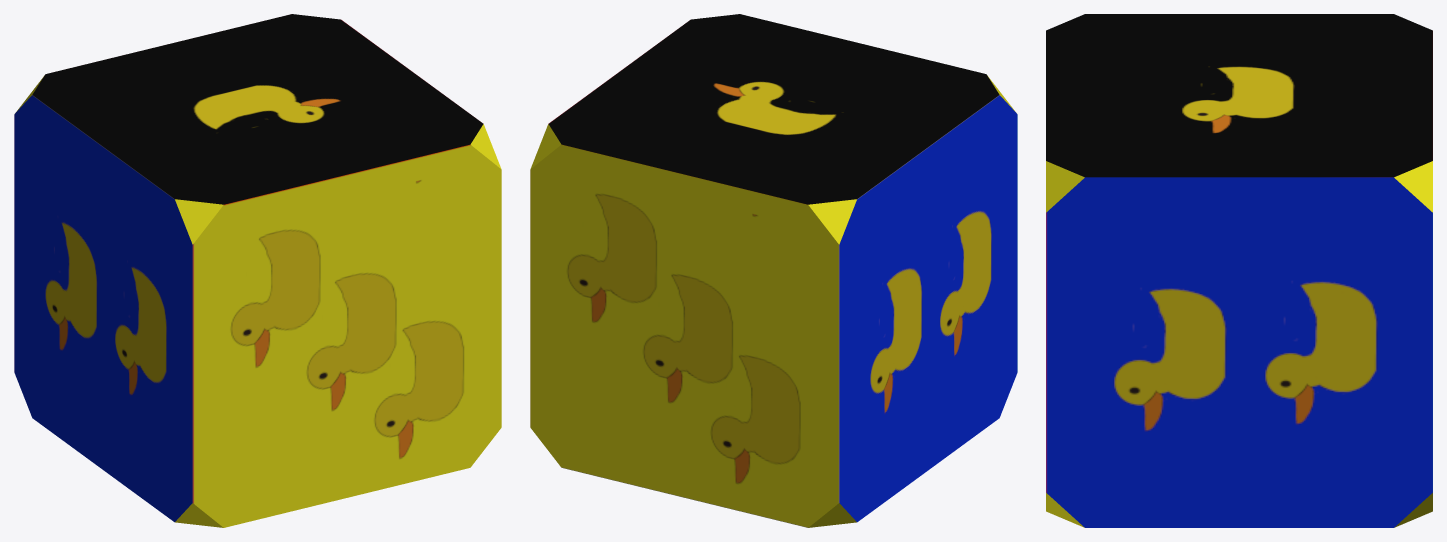
The model's file is DrMalloyDice_d3.glb.
3 views of the same model, side by side, from view 1: azimuth 30°, elevation 25°; view 2: azimuth 150°, elevation 25°; view 3: azimuth 270°, elevation 25° (orthographic). The views are drawn at different scales.
Parts seen in each view (by area): view 1: Cube; view 2: Cube; view 3: Cube.
Boxes of the visible parts, x1,y1,x2,y2 form: Cube: (14,14,501,527); Cube: (530,14,1017,527); Cube: (1046,14,1432,527).
Size of the model in its own units: 110 by 110 by 110.
3 materials, 1 textured.
